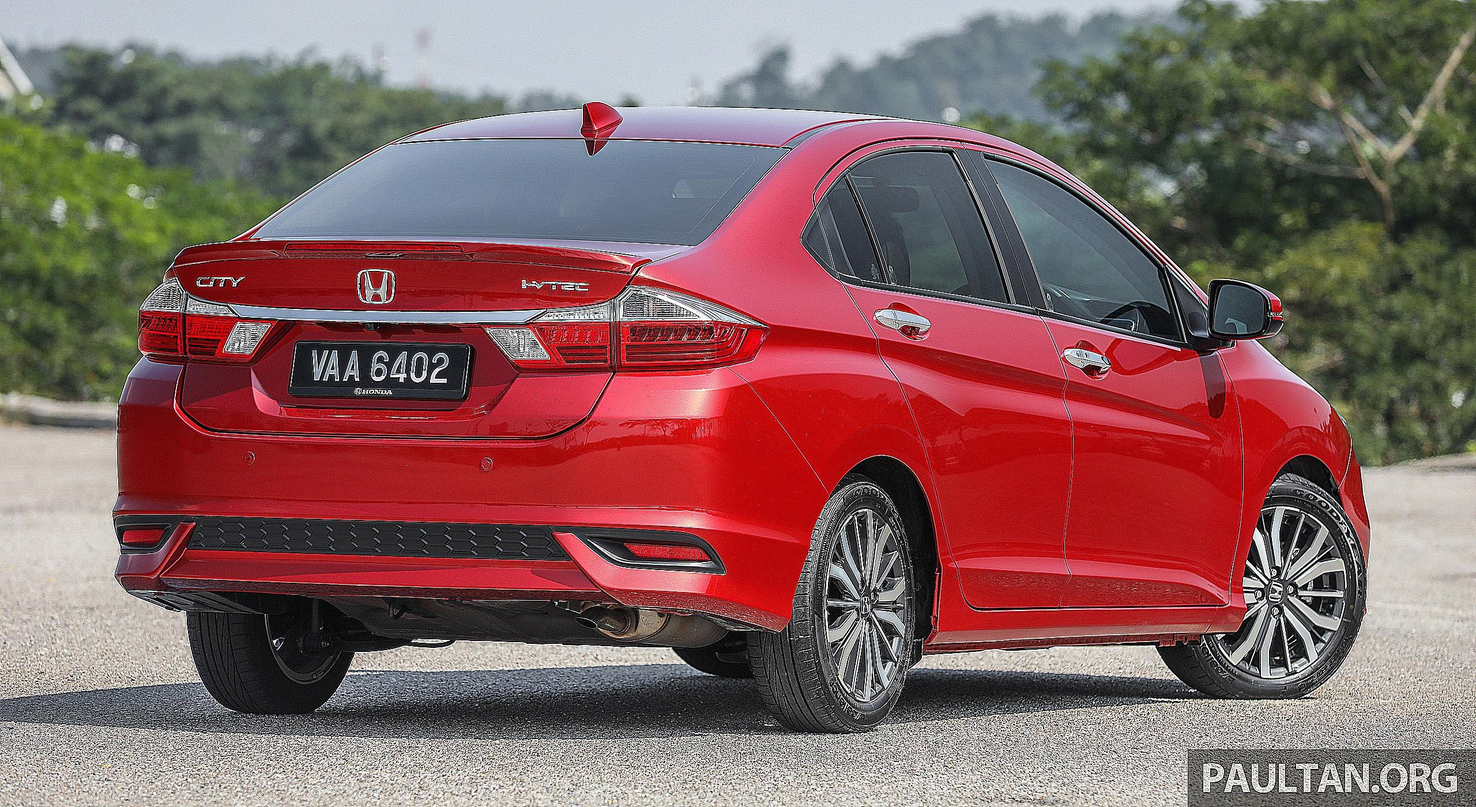Car boot: (157, 238, 656, 448)
Driver-s door - -F-R-: (951, 123, 1261, 648)
Fender - -F-R-: (1212, 326, 1357, 636)
Fender - -R-R-: (665, 146, 943, 522)
Passenger-s door - -R-R-: (794, 120, 1092, 670)
Rear bumper: (104, 360, 822, 657)
Side bumper - -R-: (927, 574, 1253, 690)
Side mirror - -R-: (1189, 273, 1288, 369)
